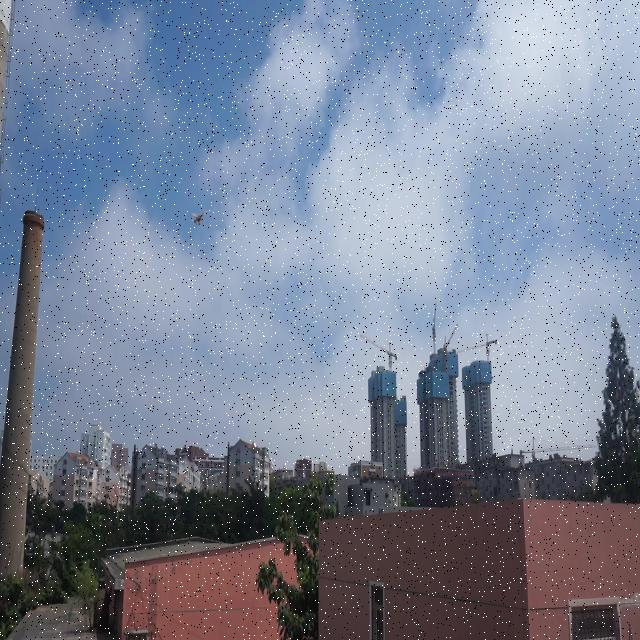UAV: (191, 208, 207, 228)
